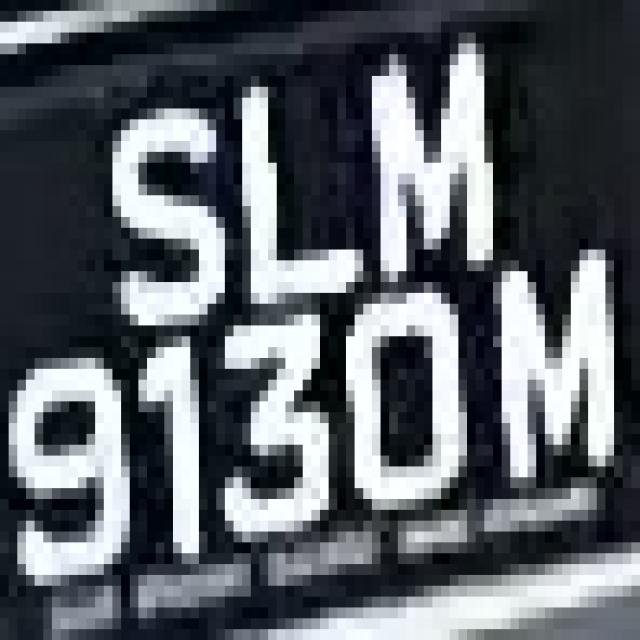0: (354, 271, 476, 521)
1: (138, 336, 225, 597)
3: (182, 293, 337, 531)
9: (9, 314, 138, 586)
L: (216, 54, 372, 315)
M: (467, 250, 614, 520), (355, 22, 493, 282)
S: (95, 87, 216, 369)
